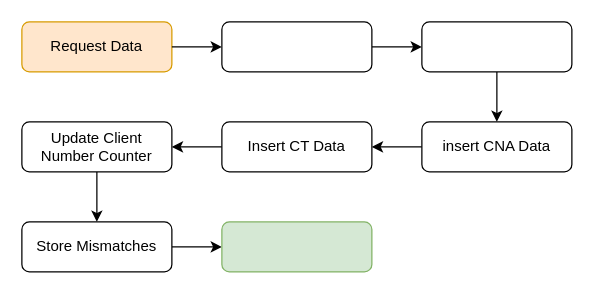
The diagram is 594 pixels wide and 294 high, and some of its shapes have lost their labels. The box of each missing label's shape, as (x1, y1, x2, y2) in pixels:
Map Lookup data: (421, 21, 572, 72)
New Client Number: (221, 21, 372, 72)
prepare output: (221, 221, 372, 272)
